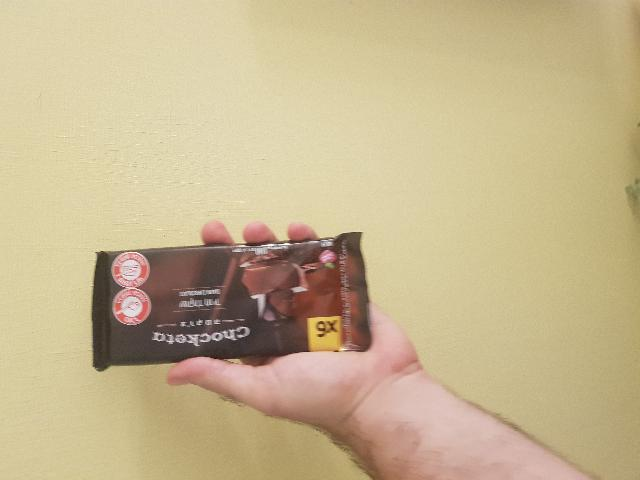chocolate: (93, 231, 370, 375)
